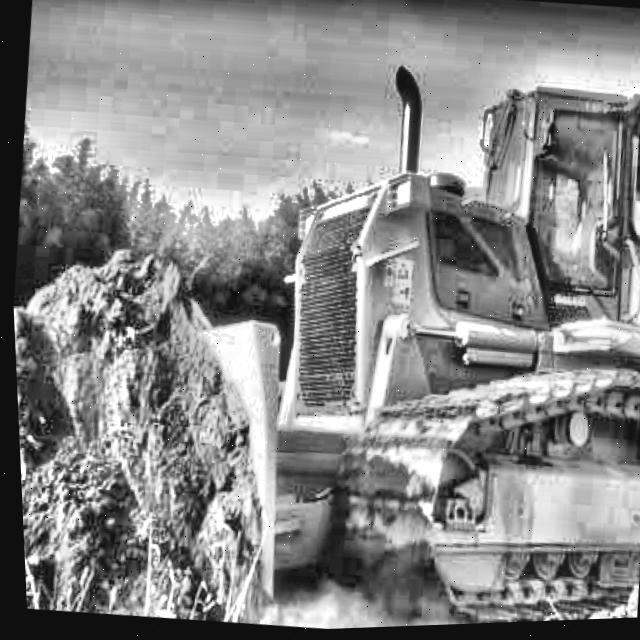buldozerpayloadergrader: (17, 0, 640, 640)
